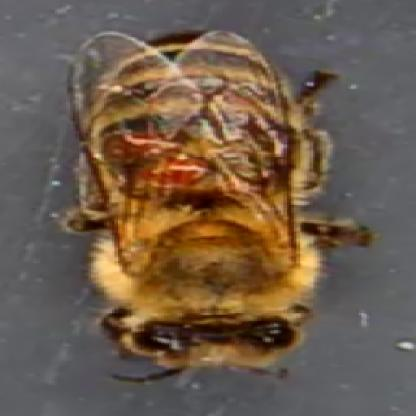bee: (75, 30, 332, 367)
vaoora: (112, 131, 170, 158), (154, 162, 206, 183)
